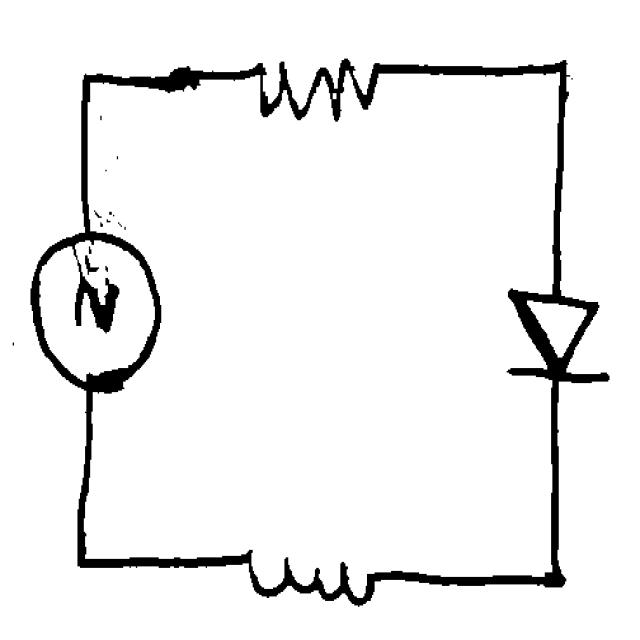ac: (20, 221, 172, 401)
diode: (498, 270, 618, 402)
inductor: (234, 538, 393, 610)
resistor: (245, 40, 392, 140)
